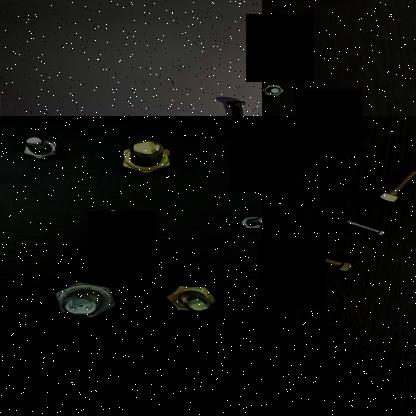Bolts: (42, 277, 120, 321), (111, 132, 178, 182), (360, 165, 416, 205), (167, 282, 223, 317), (302, 248, 366, 274), (19, 131, 65, 165), (88, 206, 134, 234), (342, 219, 391, 240), (228, 211, 262, 235), (218, 96, 254, 116), (262, 81, 287, 100), (403, 192, 416, 216)
